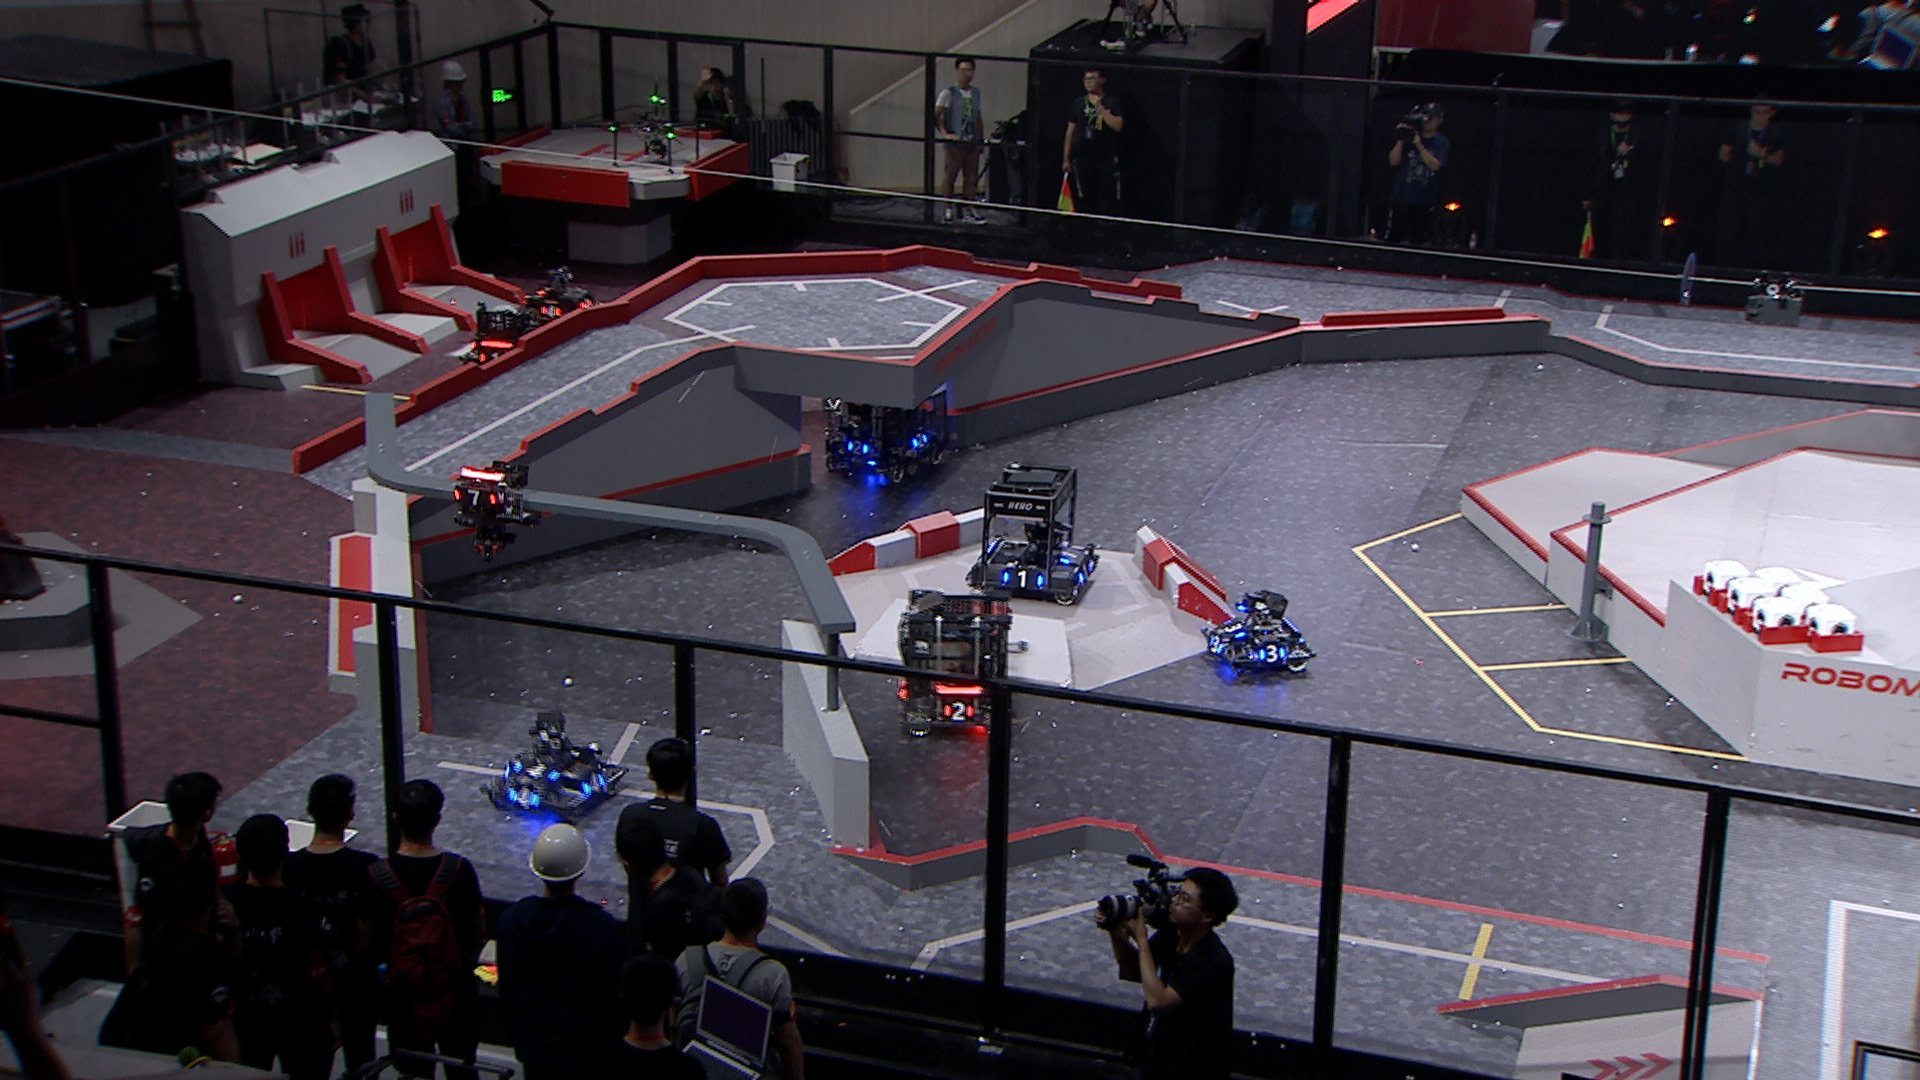armor: (1004, 570, 1044, 589), (512, 761, 556, 778), (939, 700, 973, 723), (510, 787, 538, 812), (454, 488, 495, 504), (1058, 542, 1081, 566), (583, 771, 605, 796), (1261, 642, 1286, 662), (845, 438, 869, 458), (475, 349, 498, 367), (1224, 618, 1244, 638), (1077, 560, 1095, 582), (1207, 633, 1222, 655), (913, 431, 928, 450), (541, 302, 560, 316), (579, 294, 593, 309)
car: (961, 460, 1100, 604), (891, 583, 1013, 737), (811, 367, 955, 489), (481, 709, 628, 822), (1201, 589, 1316, 676), (522, 262, 618, 348), (455, 301, 542, 386)
watcher: (442, 458, 543, 564)
